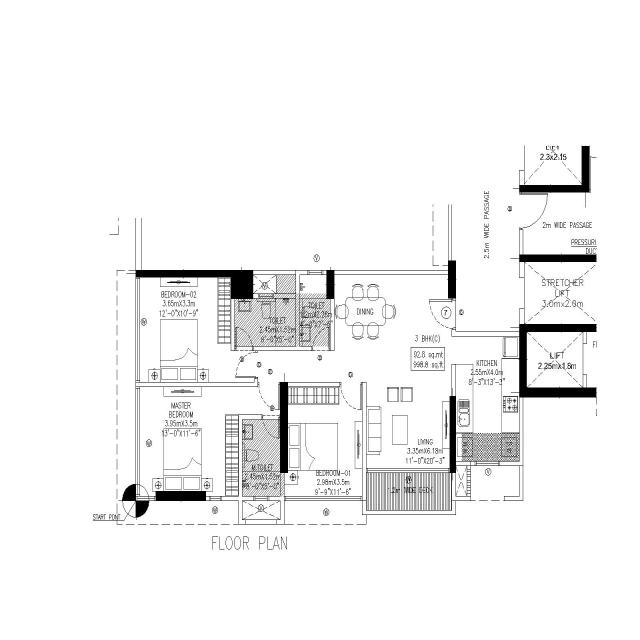Column: (134, 268, 255, 302), (513, 143, 592, 195), (278, 381, 290, 474), (518, 322, 598, 334), (518, 386, 598, 398), (154, 488, 207, 504), (448, 394, 458, 478), (518, 253, 598, 263), (518, 323, 528, 399), (447, 259, 458, 301), (325, 269, 336, 299)
Door: (518, 192, 526, 232), (337, 380, 363, 388), (310, 344, 332, 352), (253, 348, 258, 380), (256, 378, 282, 384), (260, 413, 282, 420), (234, 344, 253, 352), (452, 297, 456, 331)
Opening: (450, 334, 458, 367)
Ventilator: (474, 460, 501, 467), (306, 268, 326, 277), (252, 494, 271, 502), (258, 292, 274, 300)
Window: (283, 495, 364, 503), (365, 467, 451, 474), (209, 495, 223, 503)
